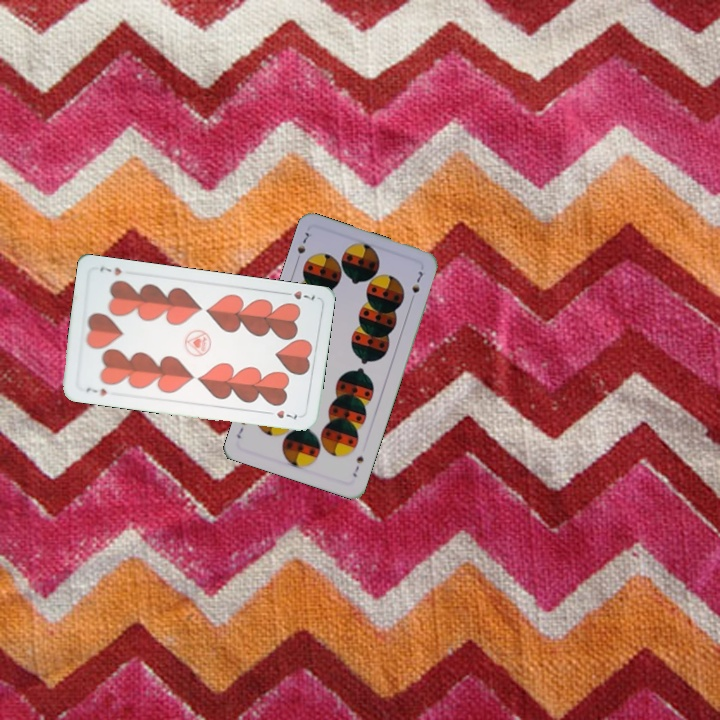H7: (278, 286, 318, 303), (82, 383, 109, 399)
S7: (292, 228, 312, 266), (349, 452, 366, 480)
